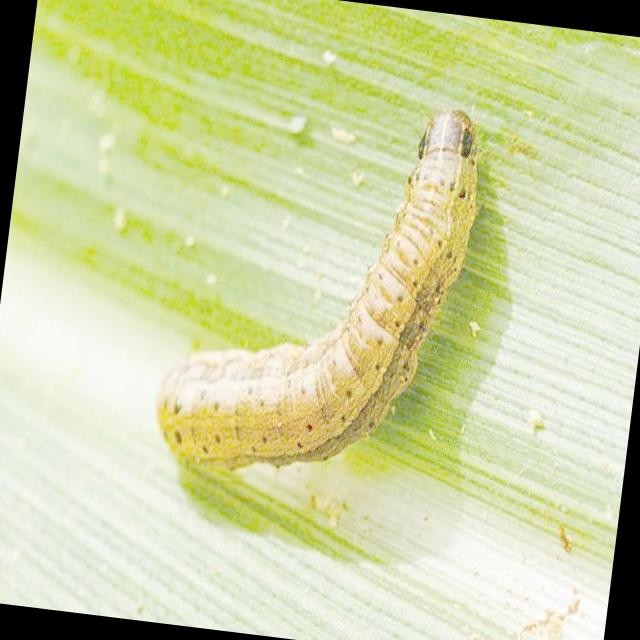pest: (148, 79, 466, 496)
